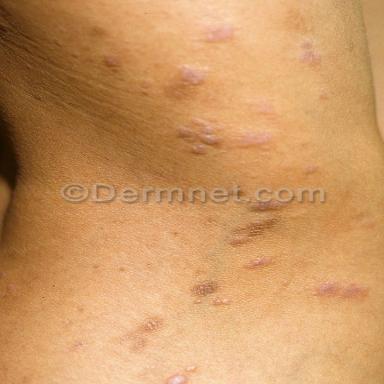lichen: (177, 118, 222, 154), (122, 317, 163, 350), (230, 218, 278, 246), (312, 281, 368, 298), (237, 131, 272, 147), (181, 65, 208, 85), (300, 41, 320, 65), (206, 25, 233, 42), (192, 282, 218, 296), (244, 257, 271, 269), (169, 374, 186, 384), (105, 55, 119, 67), (213, 299, 231, 306), (185, 365, 197, 372)
